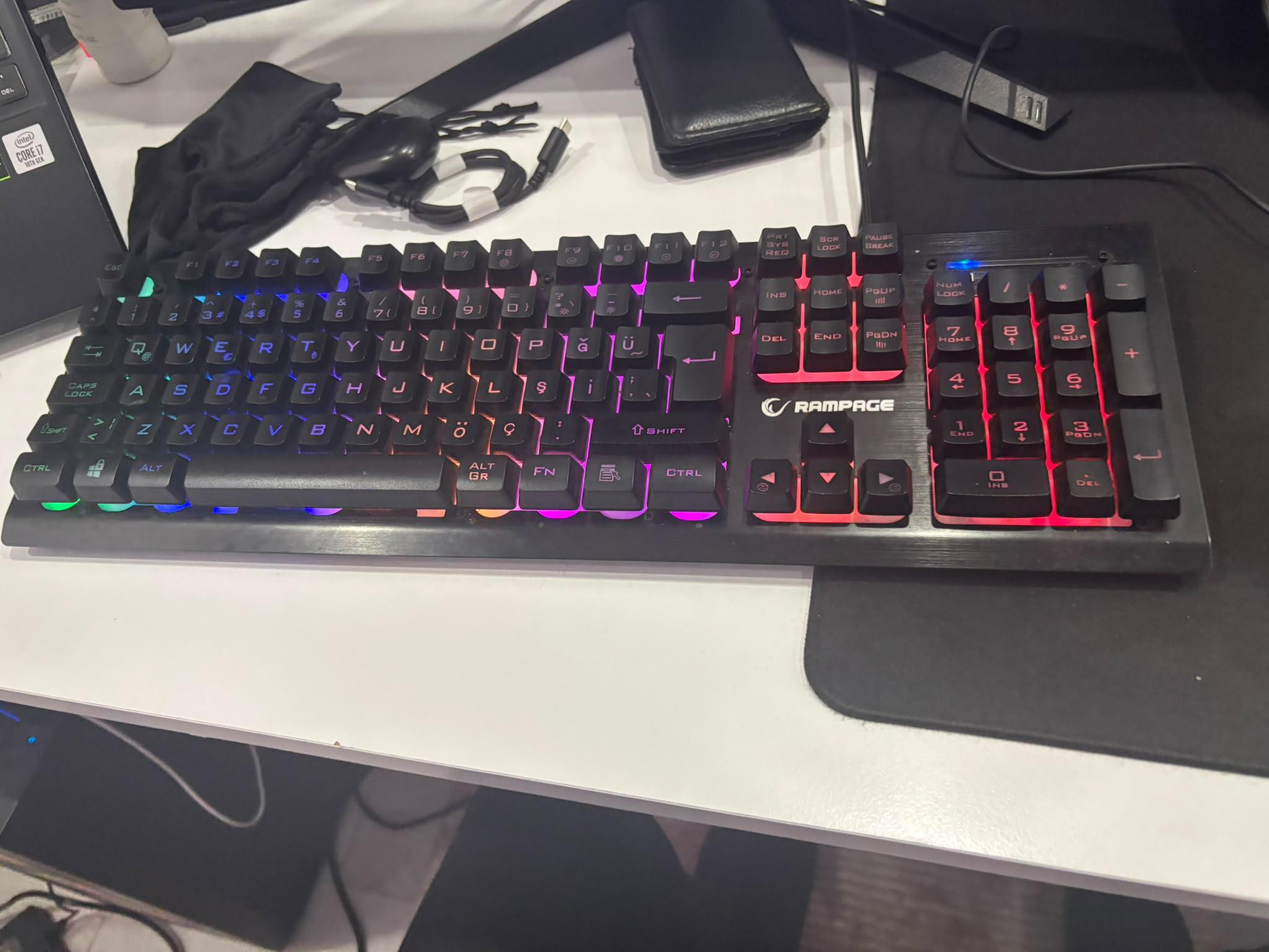cable: (958, 25, 1269, 199), (341, 118, 574, 227)
keyboard: (2, 219, 1213, 580)
mouse: (324, 112, 441, 186)
